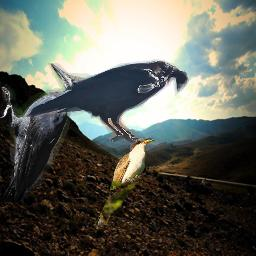Crow: (24, 59, 189, 145)
Cuckoo: (93, 136, 155, 231)
Woodpecker: (0, 63, 95, 202)
